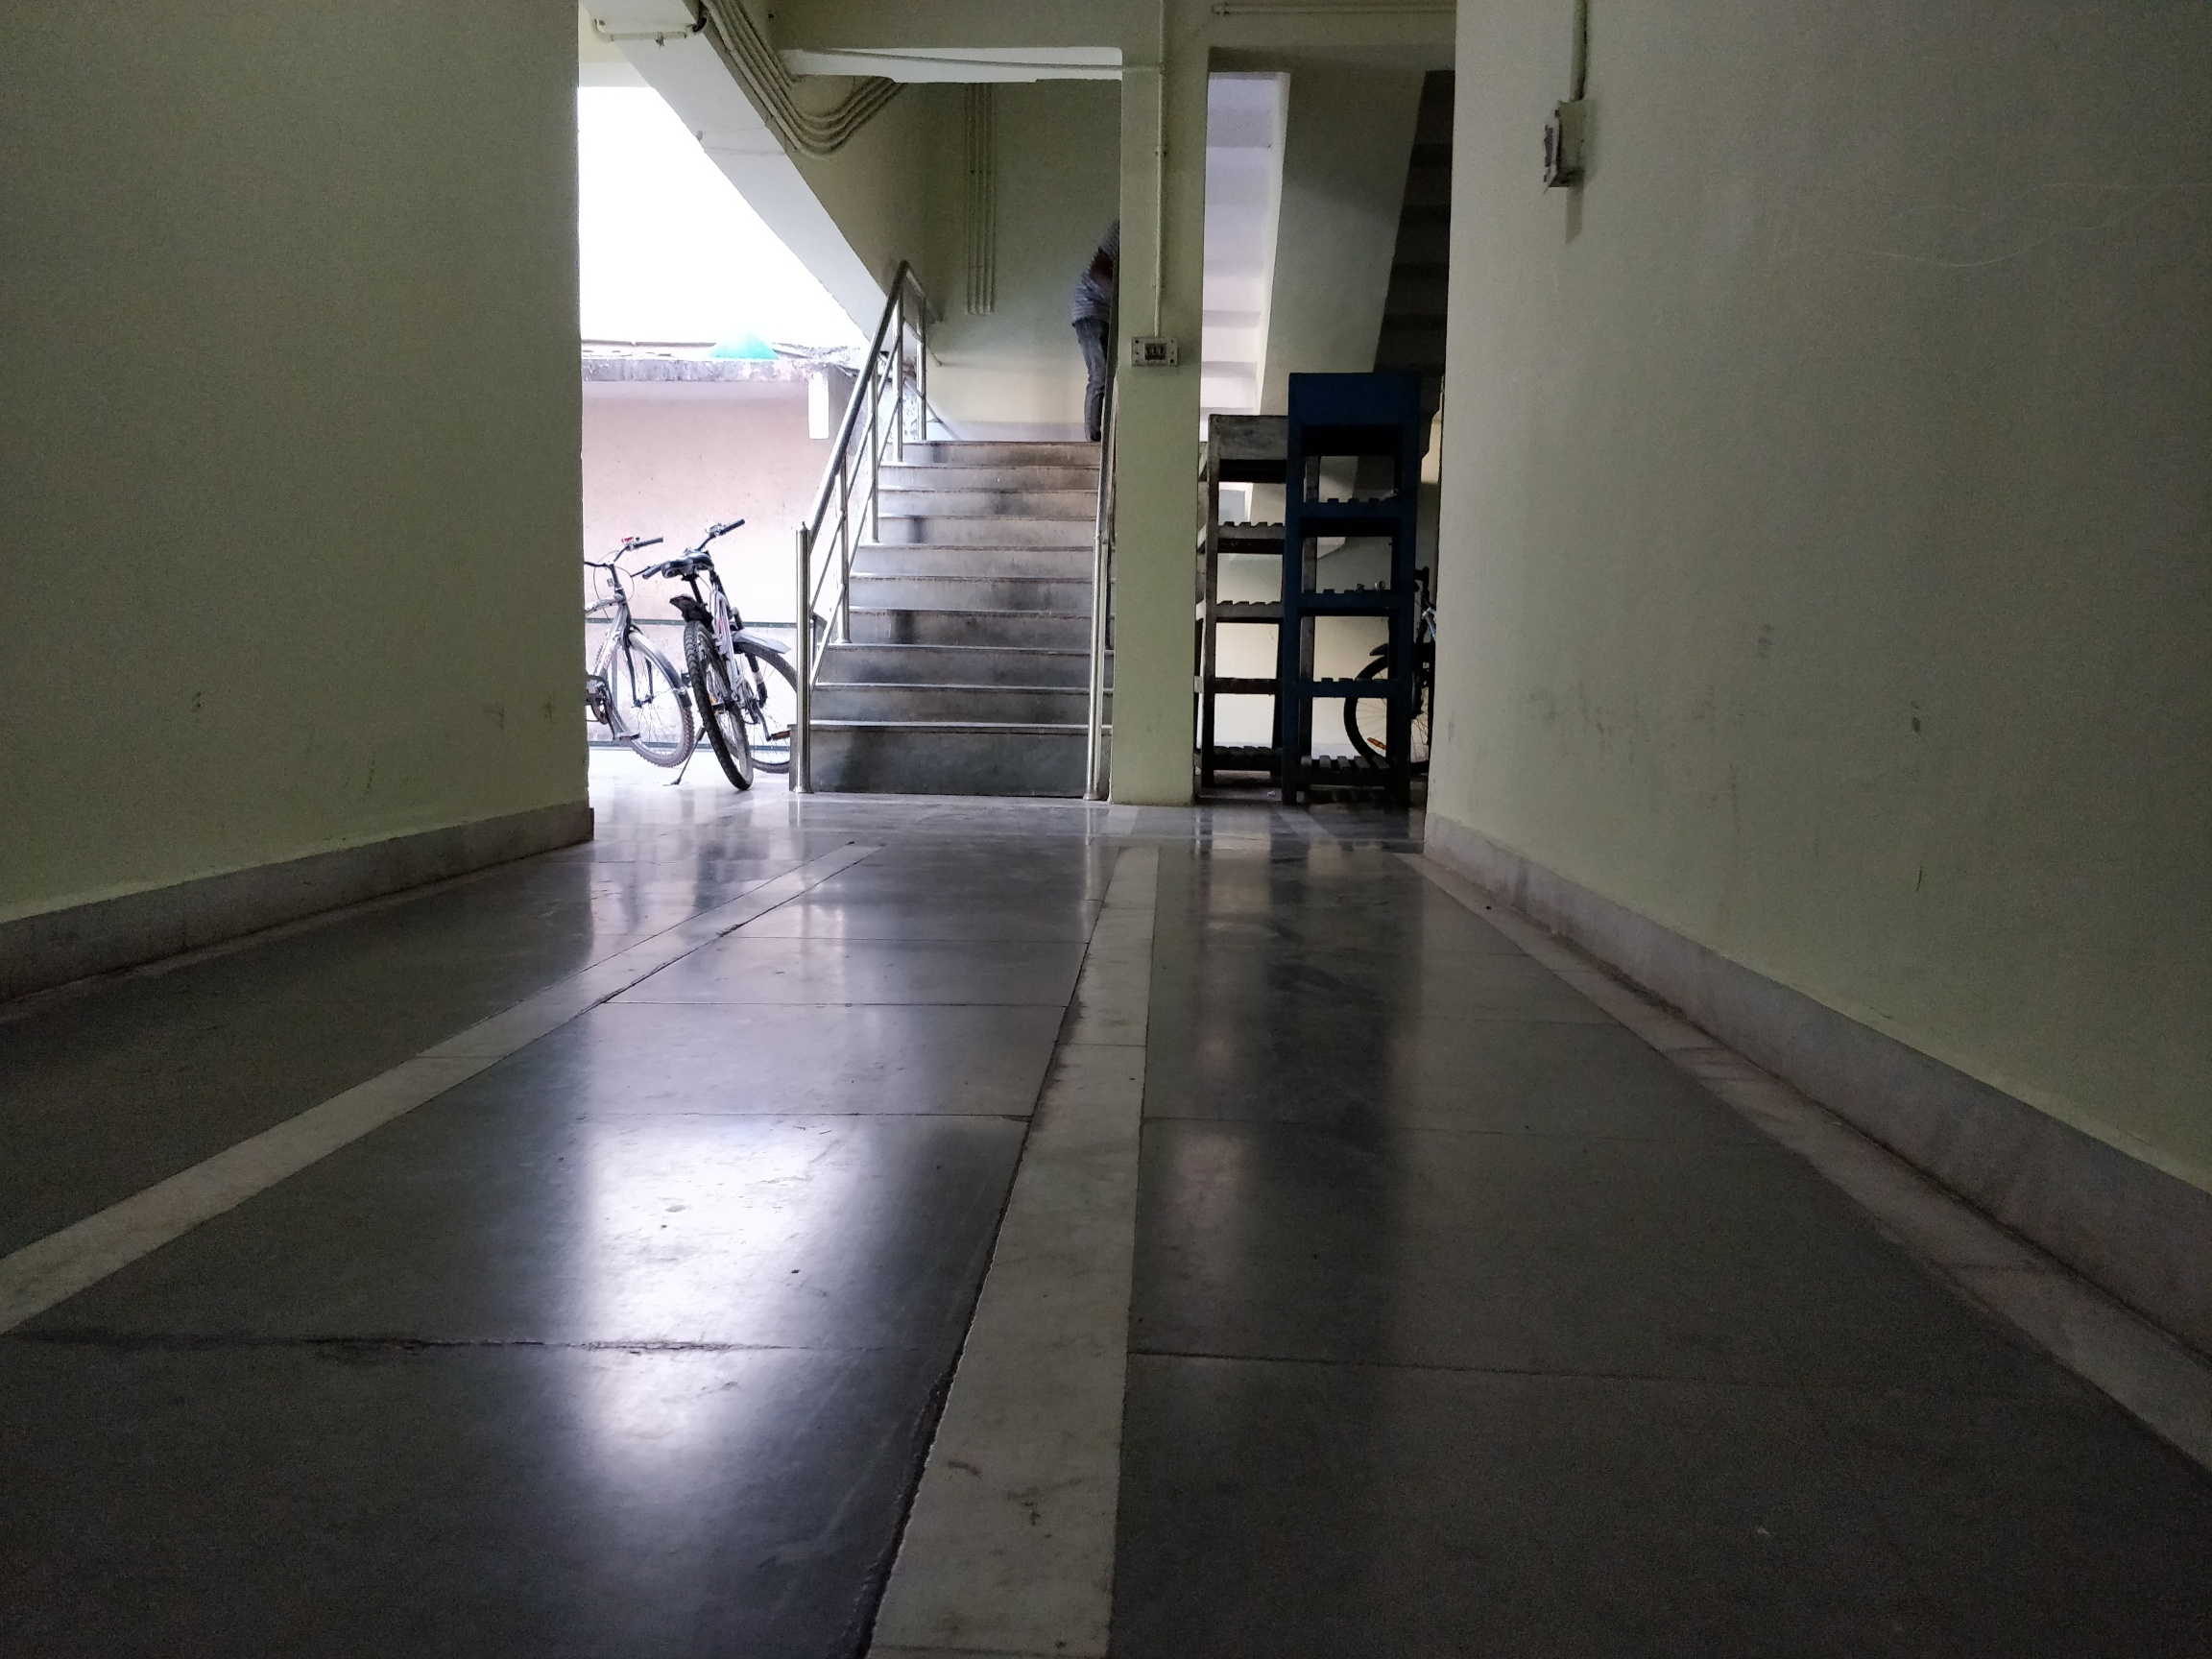stairs_up: (831, 437, 1090, 788)
